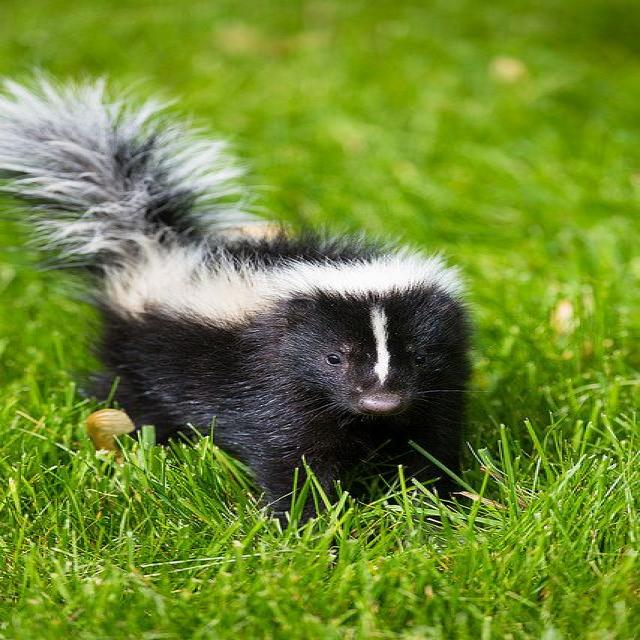Skunk: (0, 52, 510, 496)
